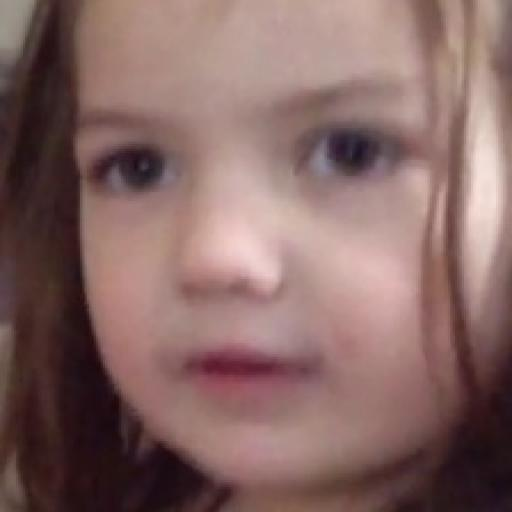Autism: (68, 10, 512, 501)
